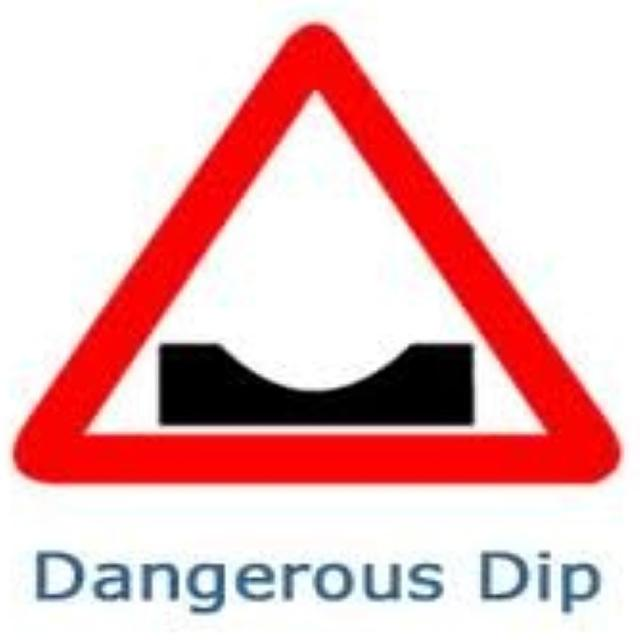DANGEROUS_DIP: (11, 21, 624, 490)
